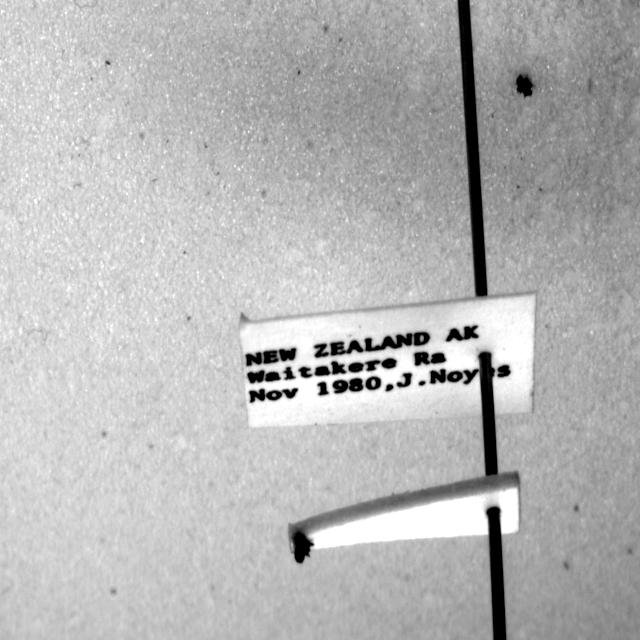typed_label: (240, 292, 536, 428)
